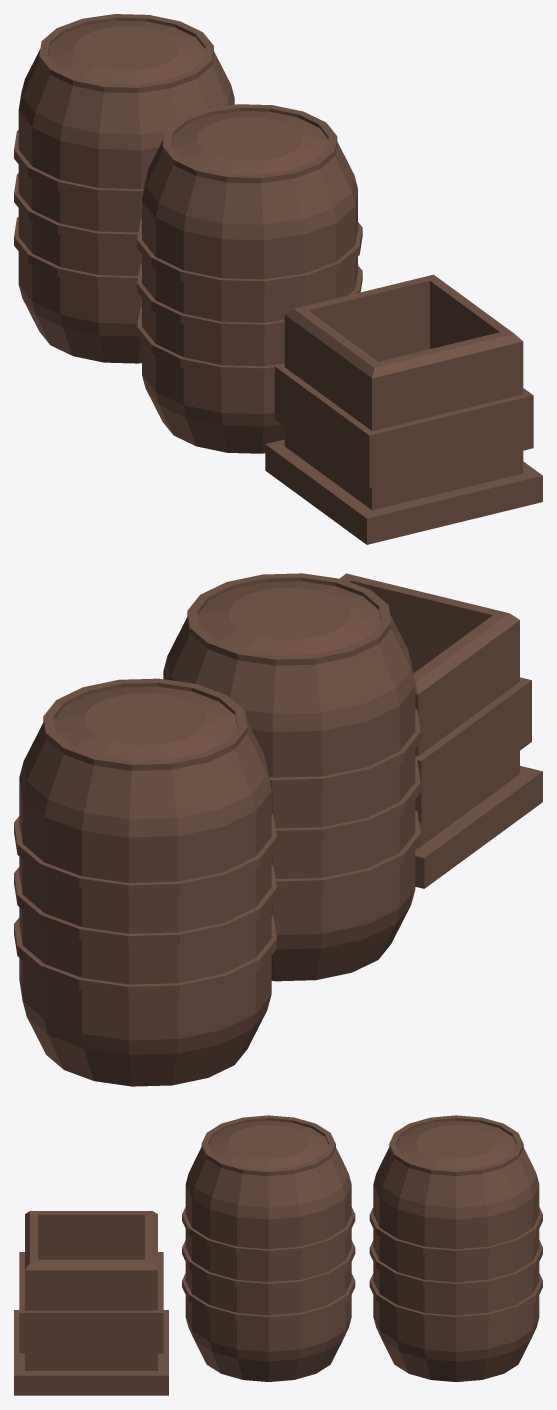
Rendered from TangNam_A.fbx.
3 renders of one model, top to bottom at view 1: azimuth 30°, elevation 25°; view 2: azimuth 150°, elevation 25°; view 3: azimuth 270°, elevation 25°, orthographic. The views are drawn at different scales.
Parts seen in each view (by area): view 1: Cylinder.012; view 2: Cylinder.012; view 3: Cylinder.012.
Boxes of the visible parts, bbox=[...] form: Cylinder.012: bbox=[14, 14, 542, 544]; Cylinder.012: bbox=[14, 573, 542, 1086]; Cylinder.012: bbox=[14, 1115, 542, 1395].
Size of the model in its own units: 350 by 414 by 938.
